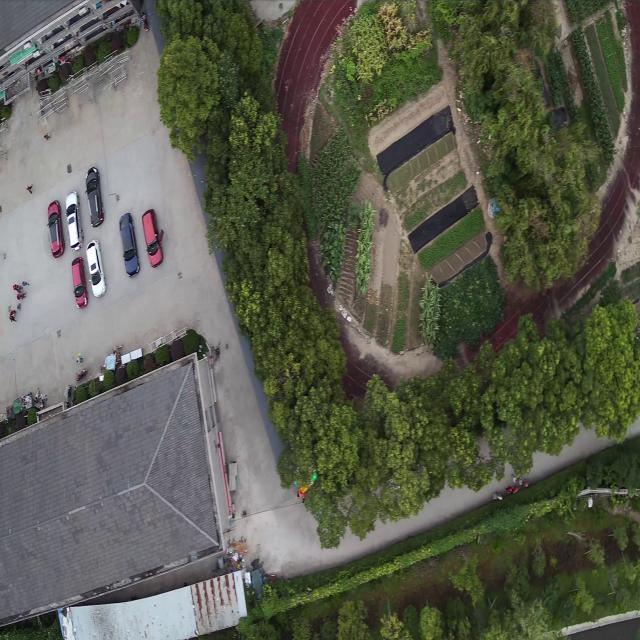UAV: (184, 548, 204, 574)
